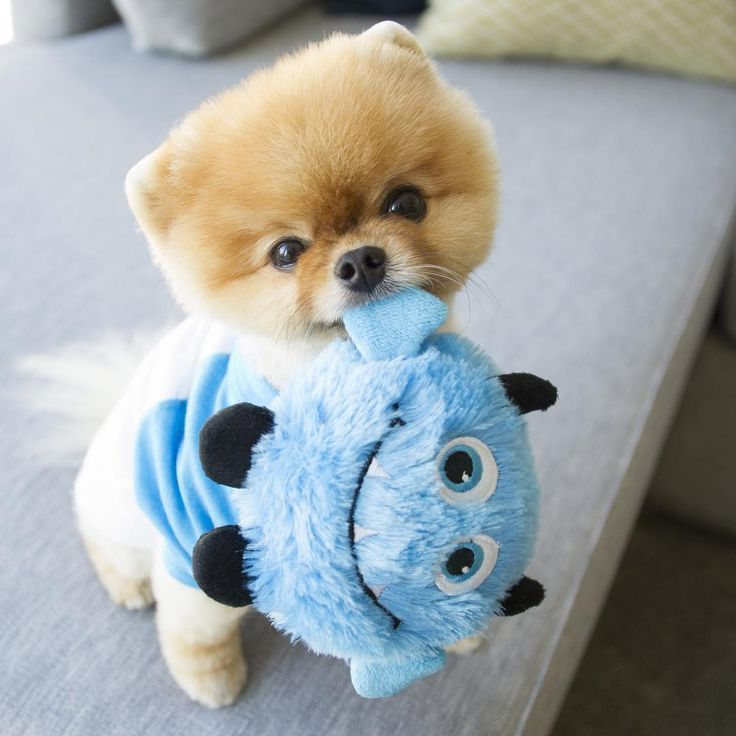pomeranian: (66, 14, 566, 729)
